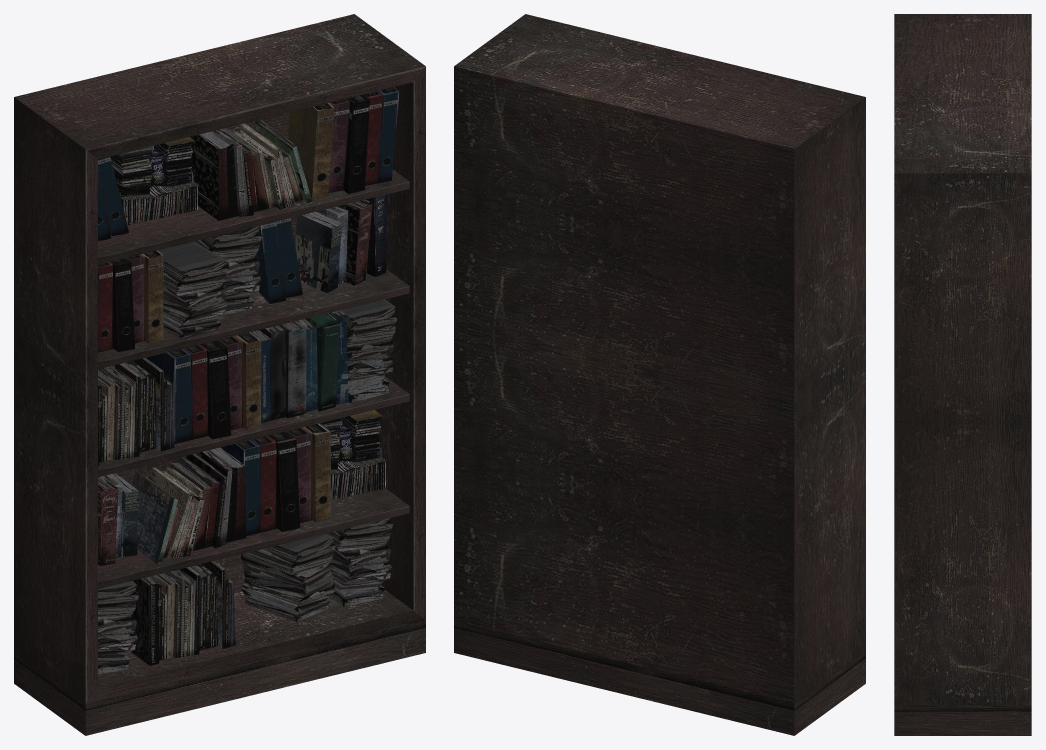
Rendered from book shelf.fbx.
3 renders of one model, left to right at view 1: azimuth 30°, elevation 25°; view 2: azimuth 150°, elevation 25°; view 3: azimuth 270°, elevation 25°, orthographic. The views are drawn at different scales.
Parts seen in each view (by area): view 1: skp4C2E1; view 2: skp4C2E1; view 3: skp4C2E1.
Part boxes in pixels (x1,y1,x2,y2): skp4C2E1: (14,14,425,735); skp4C2E1: (454,14,865,735); skp4C2E1: (894,14,1031,735).
Bounding box in the file's own units: 1.49 × 2.46 × 0.5432.
